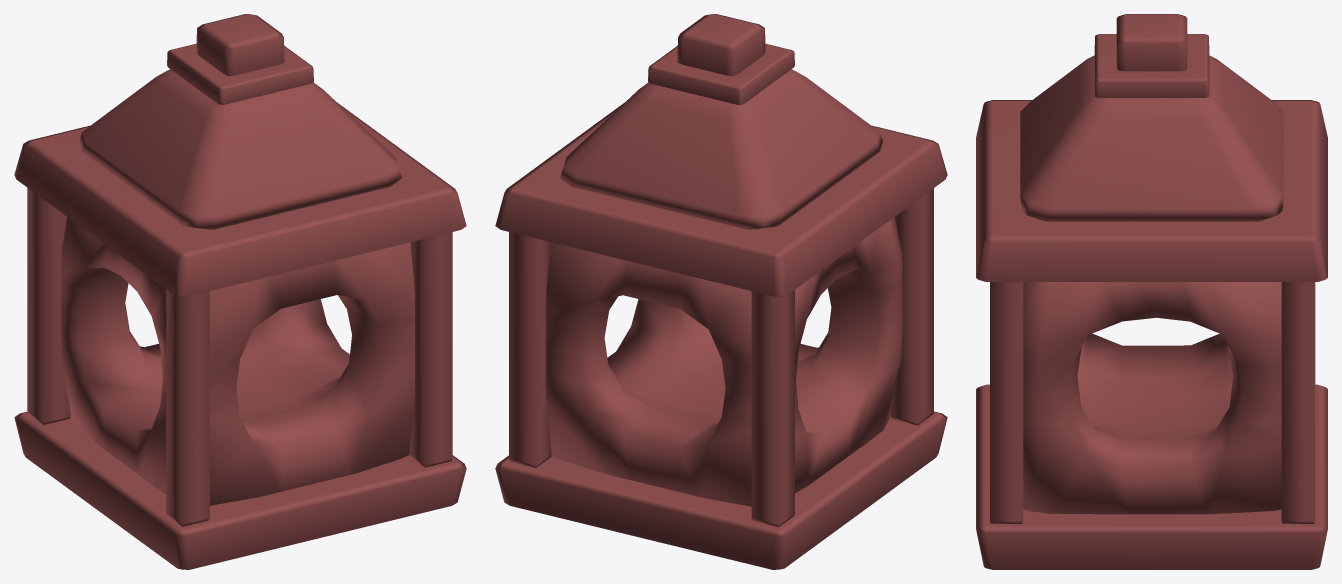
The model's file is LanternZenLow.fbx.
3 views of the same model, side by side, from view 1: azimuth 30°, elevation 25°; view 2: azimuth 150°, elevation 25°; view 3: azimuth 270°, elevation 25° (orthographic). The views are drawn at different scales.
Parts seen in each view (by area): view 1: LanternZen2; view 2: LanternZen2; view 3: LanternZen2.
Boxes of the visible parts, x1,y1,x2,y2 form: LanternZen2: (14,14,466,569); LanternZen2: (495,14,947,569); LanternZen2: (976,14,1327,569).
Size of the model in its own units: 4.47 by 6.68 by 4.47.
